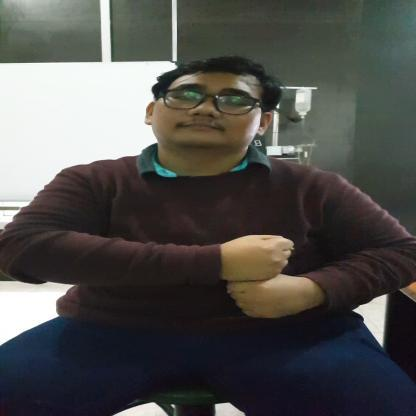G: (216, 230, 324, 322)
